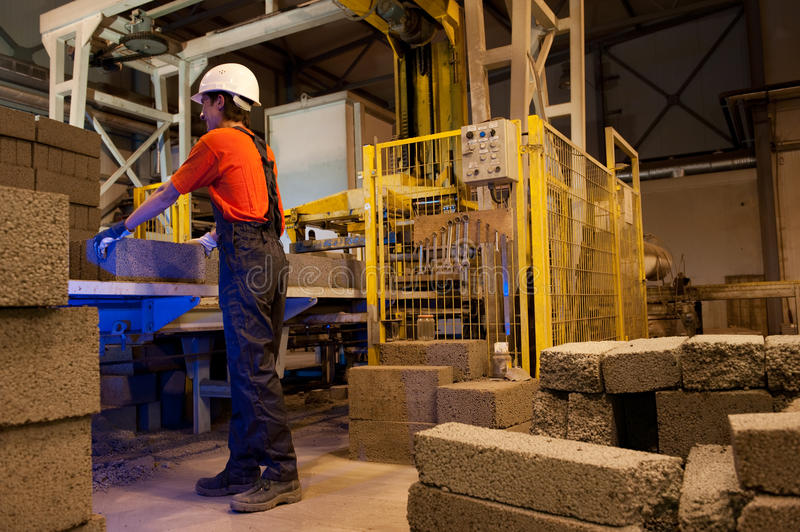person: (103, 61, 303, 511)
